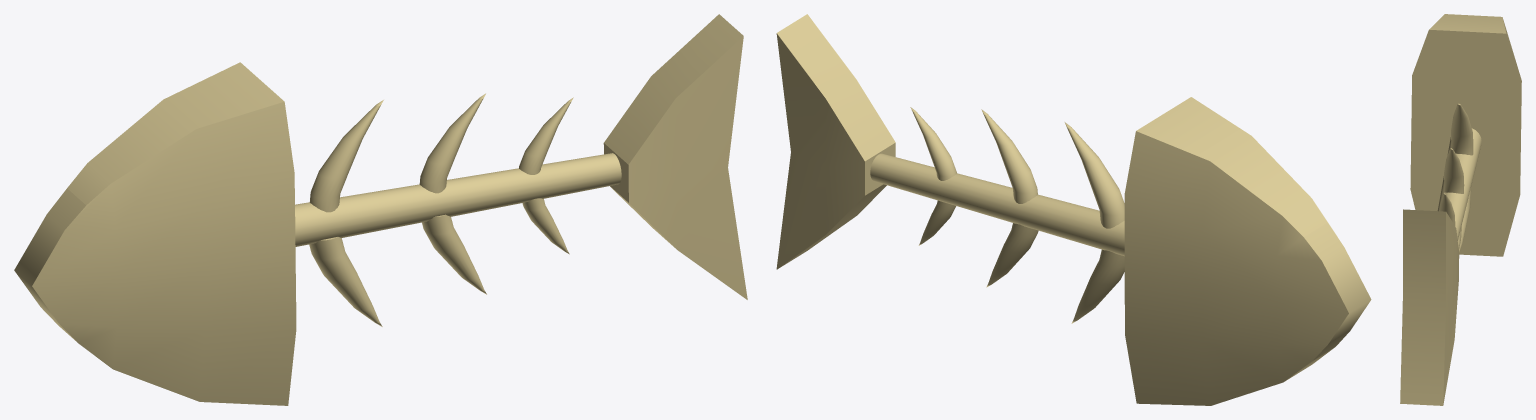
File: Isda boto.fbx
3 views of the same model, side by side, from view 1: azimuth 30°, elevation 25°; view 2: azimuth 150°, elevation 25°; view 3: azimuth 270°, elevation 25° (orthographic). The views are drawn at different scales.
Parts seen in each view (by area): view 1: pPlane1, pCube2, pCylinder5, pCylinder6, pCylinder9, pCylinder7, pCylinder10, pCylinder8, pCylinder11; view 2: pPlane1, pCube2, pCylinder5, pCylinder6, pCylinder7, pCylinder9, pCylinder10, pCylinder8, pCylinder11; view 3: pPlane1, pCube2, pCylinder5, pCylinder6, pCylinder7, pCylinder8, pCylinder9.
Boxes of the visible parts, x1=… form: pPlane1: x1=14, y1=62, x2=296, y2=405; pCube2: x1=603, y1=14, x2=747, y2=299; pCylinder5: x1=295, y1=153, x2=621, y2=246; pCylinder6: x1=309, y1=100, x2=383, y2=212; pCylinder9: x1=309, y1=237, x2=382, y2=326; pCylinder7: x1=419, y1=93, x2=485, y2=193; pCylinder10: x1=422, y1=214, x2=486, y2=294; pCylinder8: x1=519, y1=97, x2=573, y2=174; pCylinder11: x1=522, y1=198, x2=569, y2=254; pPlane1: x1=1124, y1=97, x2=1371, y2=405; pCube2: x1=776, y1=14, x2=895, y2=269; pCylinder5: x1=870, y1=153, x2=1124, y2=256; pCylinder6: x1=1064, y1=122, x2=1124, y2=228; pCylinder7: x1=981, y1=109, x2=1037, y2=203; pCylinder9: x1=1071, y1=249, x2=1124, y2=323; pCylinder10: x1=986, y1=223, x2=1038, y2=287; pCylinder8: x1=910, y1=107, x2=956, y2=180; pCylinder11: x1=918, y1=200, x2=956, y2=245; pPlane1: x1=1410, y1=14, x2=1521, y2=256; pCube2: x1=1400, y1=209, x2=1459, y2=405; pCylinder5: x1=1437, y1=128, x2=1481, y2=240; pCylinder6: x1=1451, y1=103, x2=1473, y2=155; pCylinder7: x1=1444, y1=148, x2=1464, y2=193; pCylinder8: x1=1439, y1=193, x2=1455, y2=225; pCylinder9: x1=1459, y1=187, x2=1471, y2=252.
Size of the model in its own units: 10.48 by 4.52 by 2.23.
